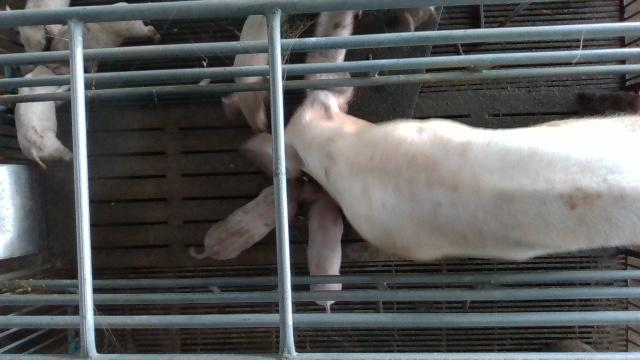piglet: (190, 177, 308, 260), (48, 0, 160, 74), (14, 66, 73, 170), (221, 13, 268, 130), (304, 183, 346, 313), (305, 11, 355, 79), (6, 0, 70, 52)
sow-stand: (237, 72, 640, 262)
